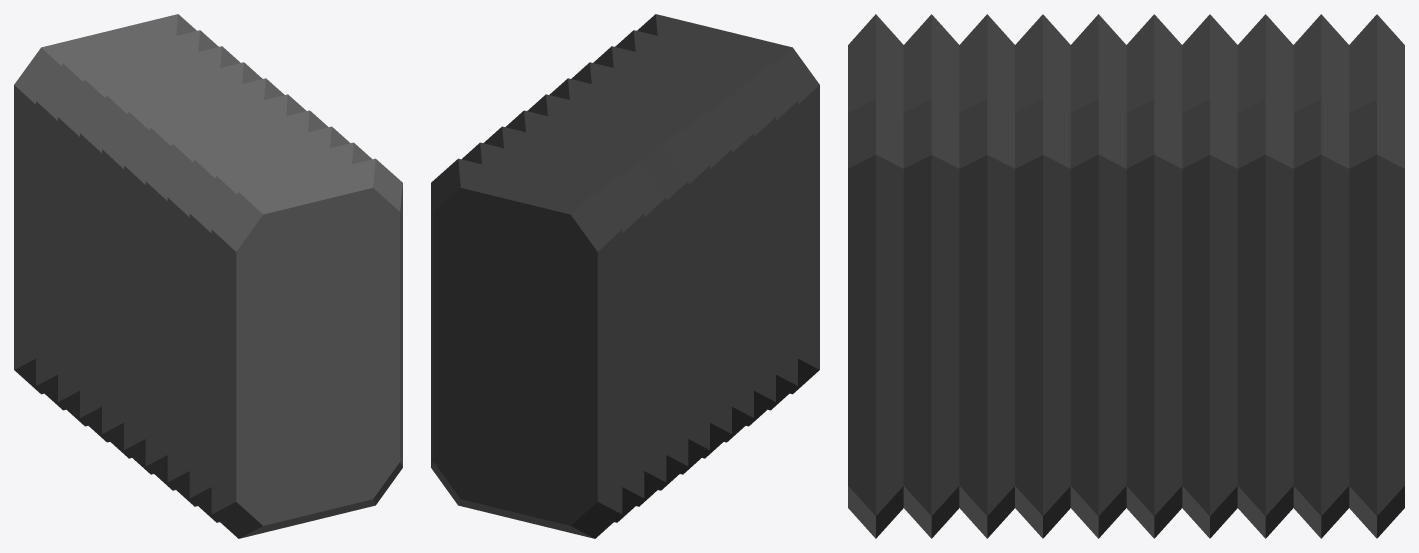
The model's file is passageway_003.fbx.
The picture shows the model from 3 angles, left to right: view 1: azimuth 30°, elevation 25°; view 2: azimuth 150°, elevation 25°; view 3: azimuth 270°, elevation 25°; orthographic projection. The views are drawn at different scales.
Parts seen in each view (by area): view 1: passageway_003; view 2: passageway_003; view 3: passageway_003.
Boxes of the visible parts, box(x1,y1,x2,y2) form: passageway_003: box(14, 14, 402, 538); passageway_003: box(431, 14, 819, 538); passageway_003: box(848, 14, 1404, 538).
Size of the model in its own units: 172 by 343 by 299.
